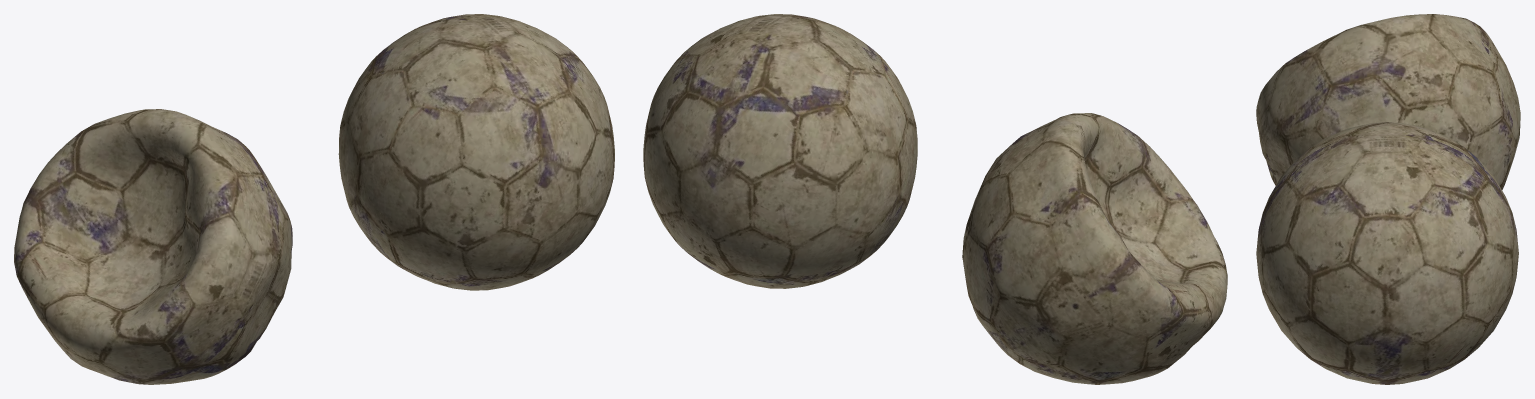
Rendered from football.glb.
3 views of the same model, side by side, from view 1: azimuth 30°, elevation 25°; view 2: azimuth 150°, elevation 25°; view 3: azimuth 270°, elevation 25° (orthographic). The views are drawn at different scales.
Visible parts, largest first — view 1: football_deflated; view 2: football_deflated; view 3: football_deflated.
Boxes of the visible parts, box(x1,y1,x2,y2) form: football_deflated: box(14, 14, 614, 384); football_deflated: box(643, 14, 1227, 384); football_deflated: box(1256, 14, 1520, 384).
Bounding box in the file's own units: 0.5089 × 0.2219 × 0.2222.
1 material, 1 textured.
